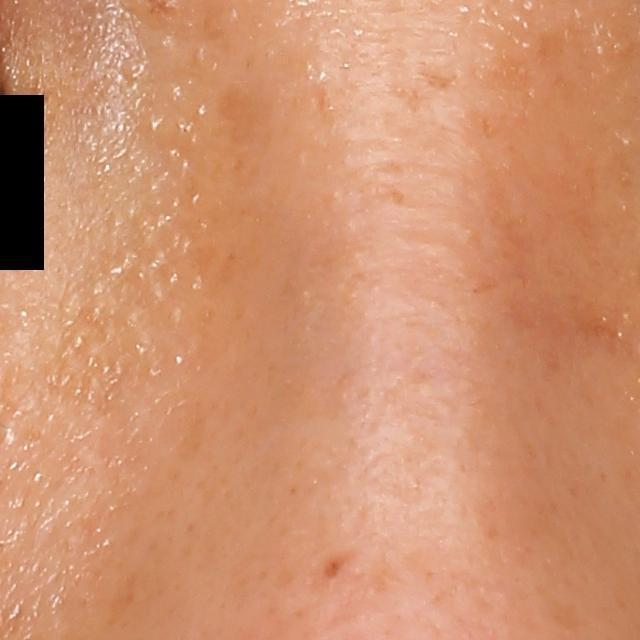melasma: (219, 84, 255, 150), (530, 24, 578, 72), (417, 63, 460, 93)
nevus: (325, 553, 355, 581)
